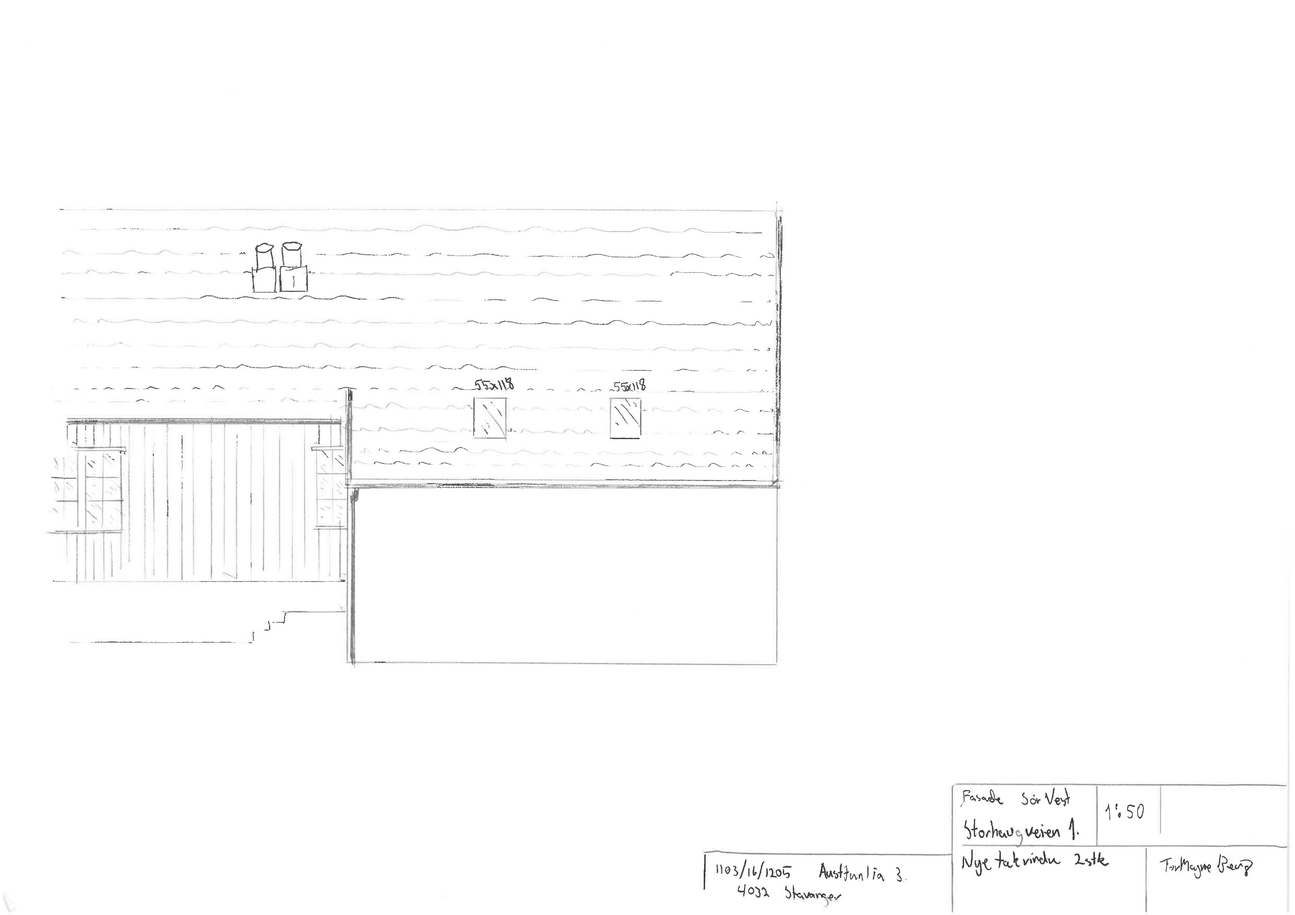fasade: (56, 207, 777, 665), (958, 788, 1078, 811), (1102, 800, 1147, 823)
